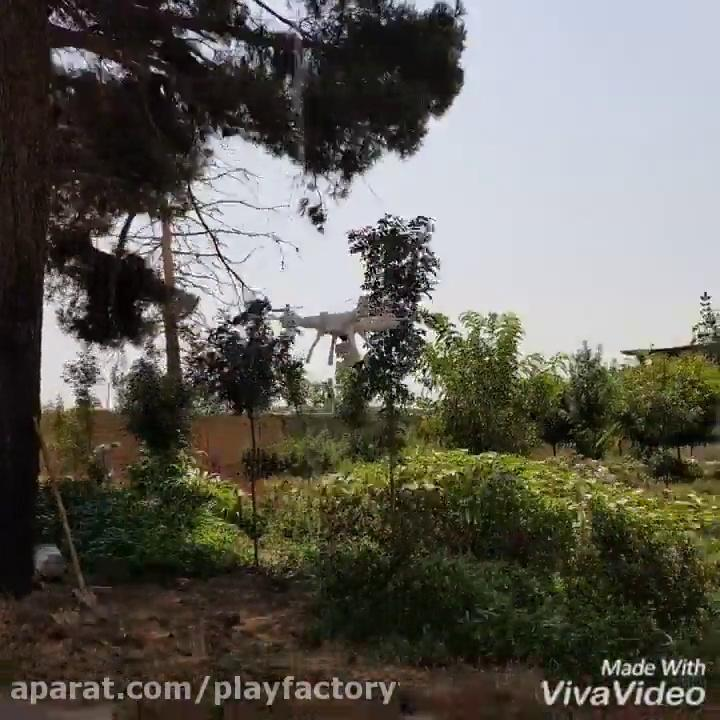drone: (263, 290, 413, 365)
